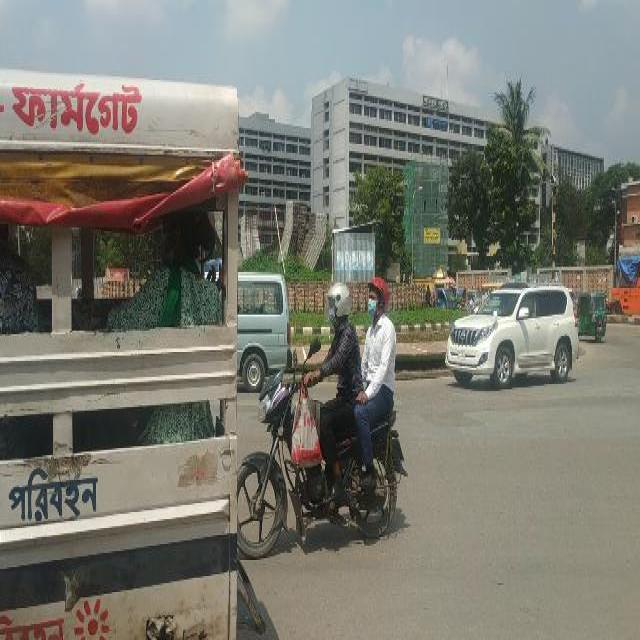bike: (238, 369, 401, 565)
vehicle: (1, 66, 245, 636), (445, 280, 579, 383), (238, 267, 293, 386), (577, 291, 608, 344), (436, 287, 457, 309)
